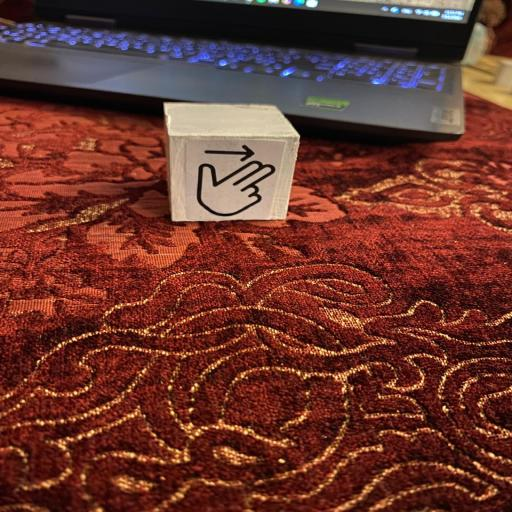RightSwipe: (162, 102, 305, 223)
